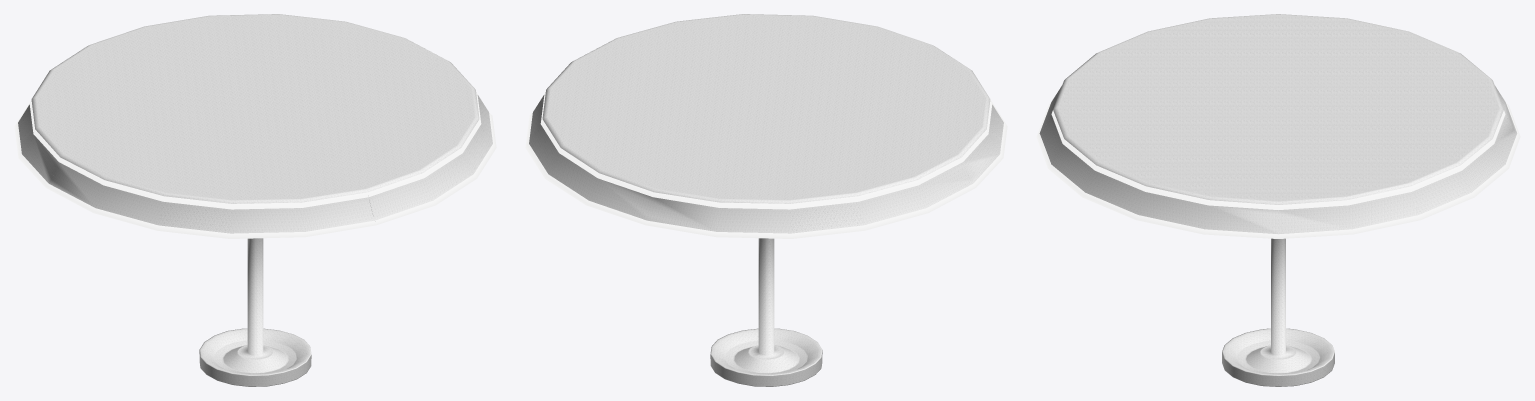
The model's file is table.glb.
3 renders of one model, left to right at view 1: azimuth 30°, elevation 25°; view 2: azimuth 150°, elevation 25°; view 3: azimuth 270°, elevation 25°, orthographic.
Visible parts, largest first — view 1: Cube; view 2: Cube; view 3: Cube.
Boxes of the visible parts, left/top/right/bottom form: Cube: left=14, top=14, right=496, bottom=386; Cube: left=525, top=14, right=1007, bottom=386; Cube: left=1036, top=14, right=1520, bottom=386.
Bounding box in the file's own units: 7.55 × 4.4 × 7.55.
Materials: 2 (1 with a texture image).
